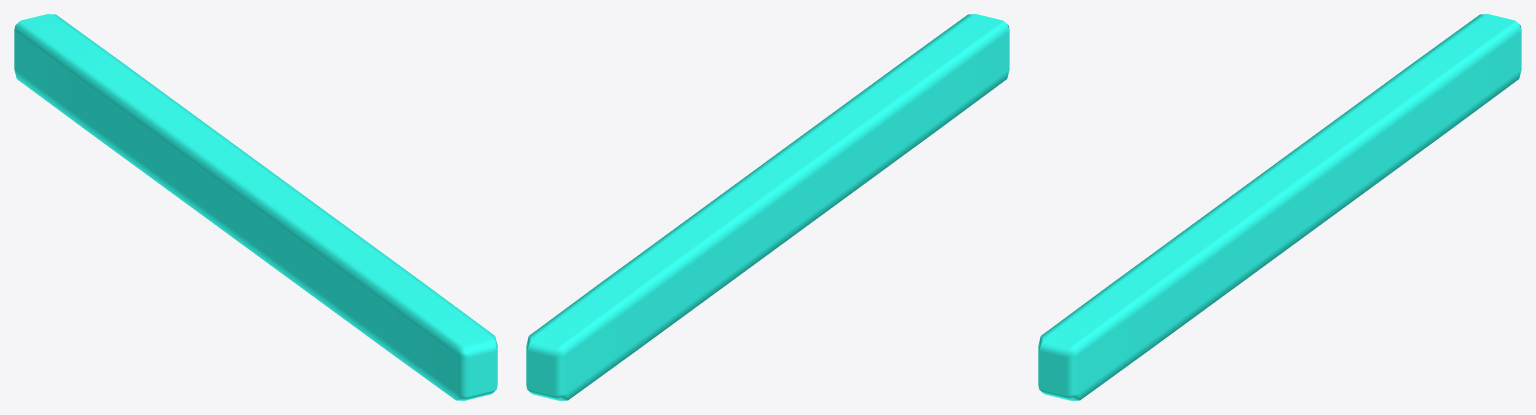
Rendered from 197_ecran_indicateur_1.glb.
The picture shows the model from 3 angles, left to right: view 1: azimuth 30°, elevation 25°; view 2: azimuth 150°, elevation 25°; view 3: azimuth 330°, elevation 25°; orthographic projection.
Visible parts, largest first — view 1: AGV_ecran_indicateur_1; view 2: AGV_ecran_indicateur_1; view 3: AGV_ecran_indicateur_1.
Boxes of the visible parts, x1,y1,x2,y2 form: AGV_ecran_indicateur_1: [14, 14, 497, 400]; AGV_ecran_indicateur_1: [526, 14, 1009, 400]; AGV_ecran_indicateur_1: [1038, 14, 1521, 400].
Bounding box in the file's own units: 0.003 × 0.004 × 0.058.
